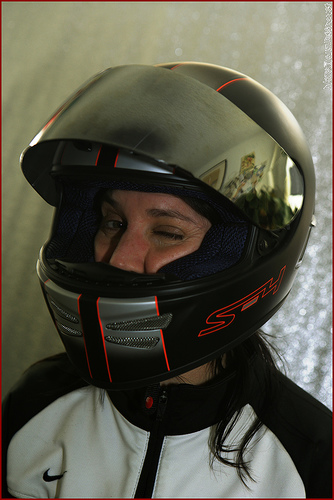helmet: (40, 72, 323, 349)
